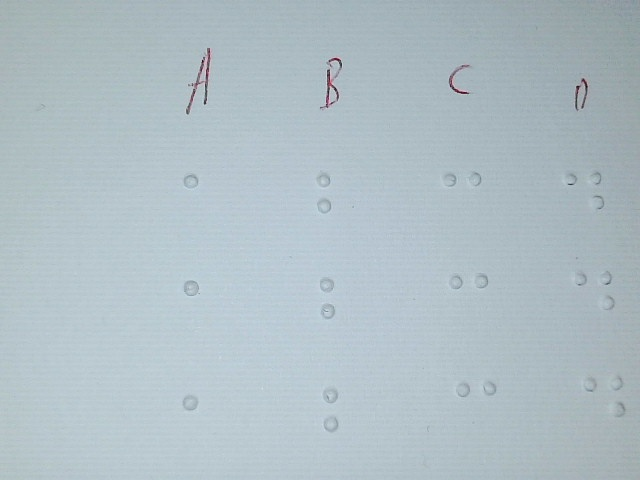A: (176, 165, 229, 250), (176, 270, 229, 355), (174, 383, 227, 468)
B: (308, 163, 363, 247), (310, 266, 365, 350), (314, 376, 369, 460)
C: (438, 159, 488, 241), (443, 262, 493, 344), (451, 369, 501, 451)
